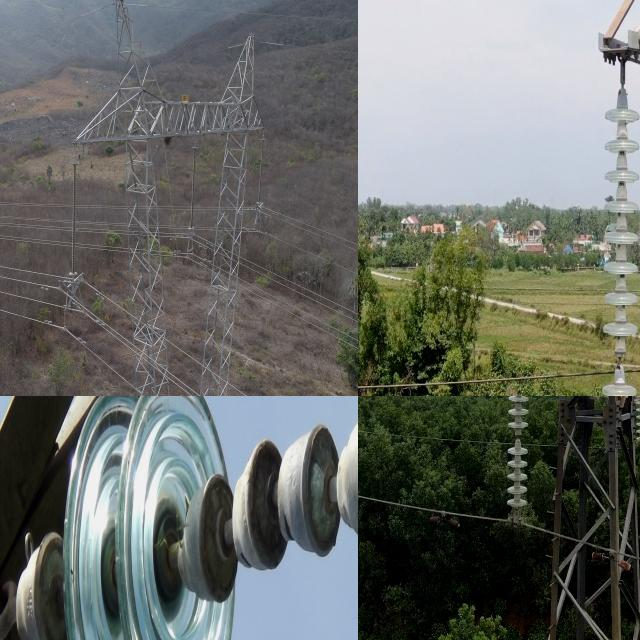杆塔: (54, 0, 272, 396), (496, 396, 640, 640)
正常绝缘子: (20, 396, 358, 640), (596, 55, 635, 396), (501, 396, 534, 533), (69, 160, 79, 277), (188, 146, 198, 230), (256, 137, 266, 207), (629, 396, 640, 456)
绝缘子破损: (297, 426, 355, 556), (241, 437, 292, 570), (199, 465, 246, 606), (614, 341, 627, 374), (514, 430, 522, 444)
